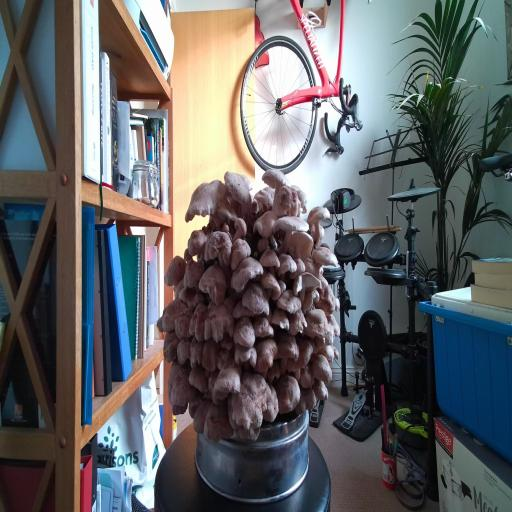Shiitake Mushroom: (218, 357, 279, 442), (262, 199, 319, 255), (242, 200, 295, 251), (219, 247, 273, 297), (192, 253, 237, 312), (159, 362, 204, 420), (281, 259, 332, 309), (184, 175, 227, 228), (266, 319, 305, 377), (254, 155, 298, 205), (279, 331, 319, 386), (152, 288, 193, 340), (202, 361, 251, 403), (298, 195, 336, 248), (233, 277, 280, 319), (199, 396, 235, 447), (222, 162, 254, 219), (218, 231, 259, 271), (159, 248, 192, 296), (254, 265, 288, 308), (180, 361, 219, 397), (203, 226, 234, 270), (309, 279, 341, 321), (210, 195, 246, 231), (204, 302, 235, 343), (252, 243, 288, 278), (270, 284, 308, 317), (274, 371, 302, 415), (190, 392, 214, 436), (286, 228, 314, 265), (161, 358, 184, 403), (232, 312, 258, 350), (272, 183, 301, 217), (198, 334, 222, 375), (289, 176, 313, 215), (294, 285, 325, 315), (308, 242, 340, 271), (292, 382, 319, 416), (302, 306, 329, 340), (182, 385, 209, 419), (275, 251, 299, 288), (188, 299, 208, 343), (160, 326, 182, 366), (259, 358, 287, 389), (262, 383, 282, 426), (255, 337, 277, 376), (285, 254, 310, 288), (310, 352, 335, 385), (220, 402, 244, 436), (314, 338, 342, 367), (253, 183, 278, 215), (231, 343, 261, 368), (295, 359, 317, 393), (267, 306, 296, 331), (286, 307, 309, 338), (174, 307, 194, 340), (186, 336, 205, 370), (183, 259, 204, 289), (187, 228, 208, 257), (299, 256, 325, 279), (324, 310, 344, 339), (310, 377, 331, 404), (319, 322, 340, 349), (235, 423, 263, 443), (177, 283, 197, 310), (236, 166, 256, 193), (168, 277, 191, 300), (230, 298, 256, 318), (216, 346, 236, 371), (176, 335, 192, 366), (252, 317, 275, 338), (252, 233, 274, 254), (232, 216, 247, 243), (170, 402, 190, 417), (180, 247, 195, 265), (220, 332, 234, 351), (275, 276, 288, 294), (156, 310, 165, 332), (332, 343, 340, 361), (333, 294, 340, 312)
